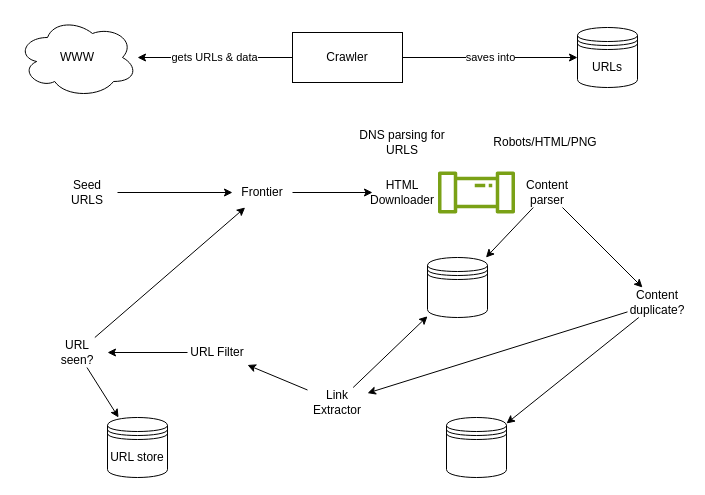
Image size: 705x495. Some labels were removed from this diagram. Here are the shapes that lost their labels. From the top down, the centre of each, then its label:
the point at 457,287: Robots store
the point at 476,447: Content store
